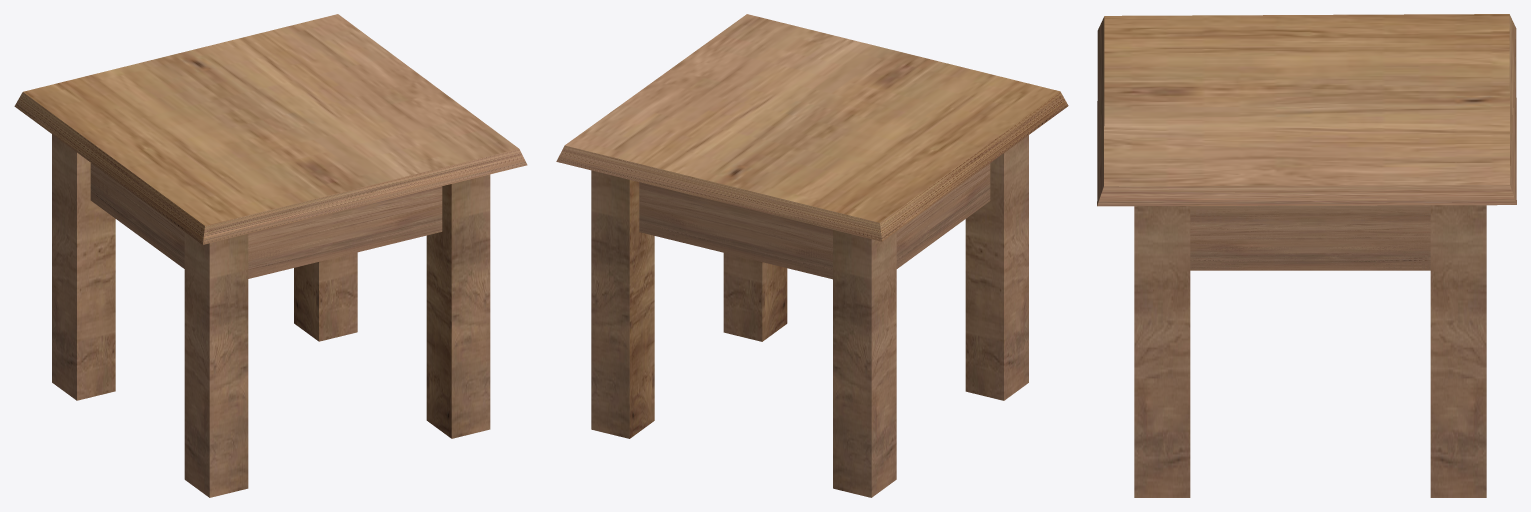
File: chearOld.fbx
The picture shows the model from 3 angles, left to right: view 1: azimuth 30°, elevation 25°; view 2: azimuth 150°, elevation 25°; view 3: azimuth 270°, elevation 25°; orthographic projection. The views are drawn at different scales.
Parts seen in each view (by area): view 1: Top, Foots, Side; view 2: Top, Foots, Side; view 3: Top, Foots, Side.
Part boxes in pixels (x1,y1,x2,y2): Top: [14, 14, 527, 244]; Foots: [52, 134, 490, 497]; Side: [90, 163, 442, 278]; Top: [556, 14, 1068, 241]; Foots: [591, 135, 1028, 497]; Side: [639, 163, 990, 279]; Top: [1097, 14, 1516, 206]; Foots: [1134, 205, 1486, 497]; Side: [1190, 205, 1430, 270].
Size of the model in its own units: 204 by 172 by 204.
